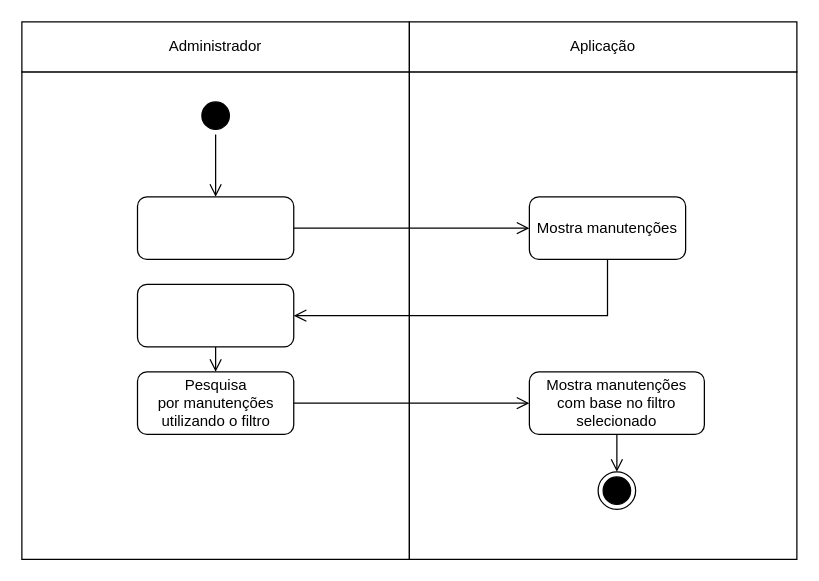
Some shapes in this 819 by 581 pixel diagram are drawn without their labels. The shapes that lost their labels are listed below. From the top down, each one's centre as x and y in pixels, then its label:
At point 215,227: "Entra na tela de ver manutenções".
At point 215,315: "Escolhe filtros".
